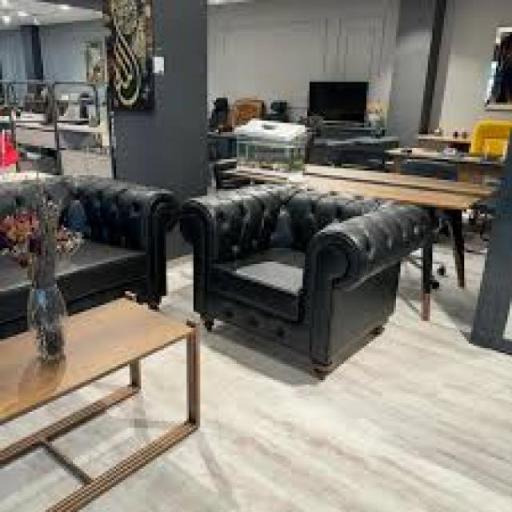sofa: (174, 179, 456, 404), (2, 175, 174, 338)
